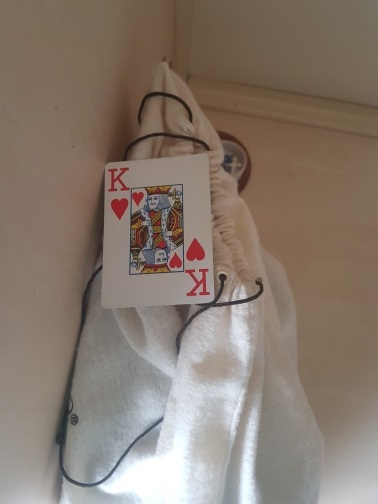king: (102, 153, 216, 304)
